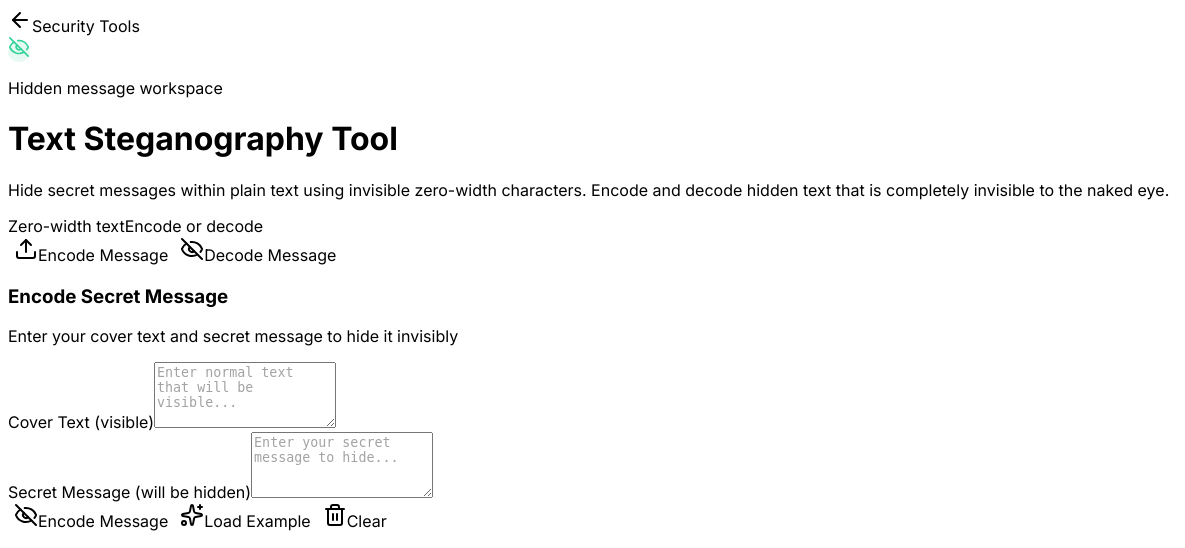
Test: Steganography Page › Mode Switching › switches back to encode mode
This screenshot has width=1185, height=548.
Click the button "Decode Message".
click(258, 251)  # box [174, 236, 342, 266]
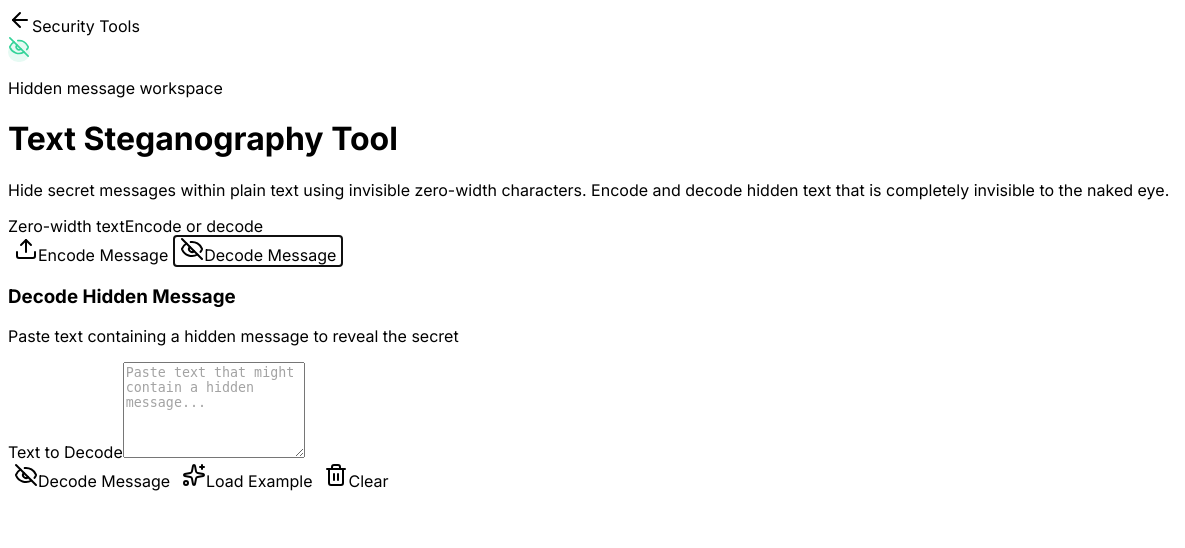
Check: the heading "Decode Hidden Message" is shown, box [8, 285, 236, 308]
Click the button "Encode Message".
click(91, 251)  # box [8, 236, 174, 266]
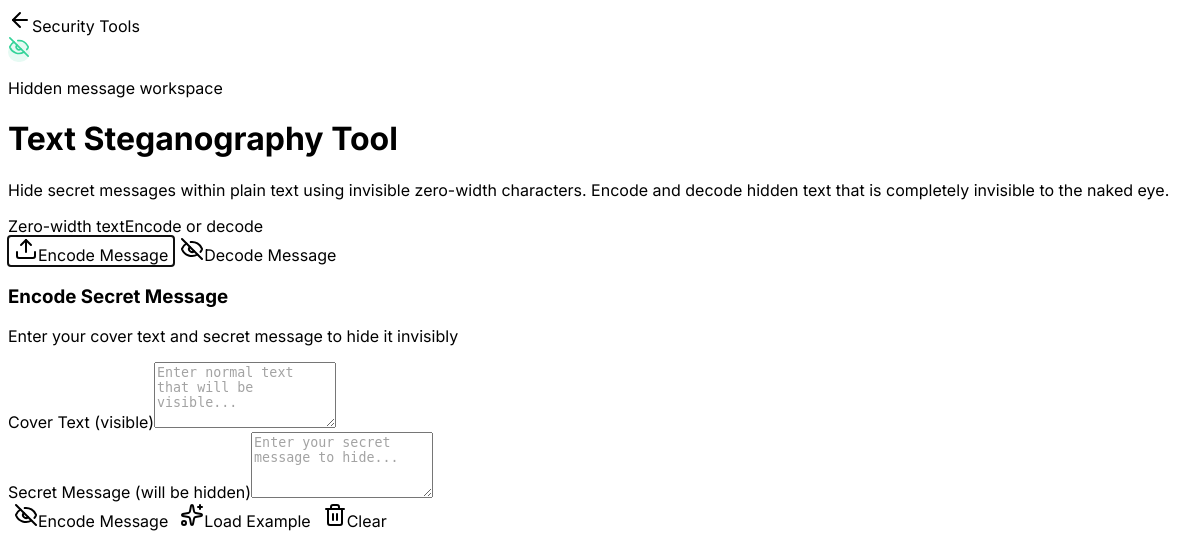
Check: the heading "Encode Secret Message" is shown, box [8, 285, 228, 308]
